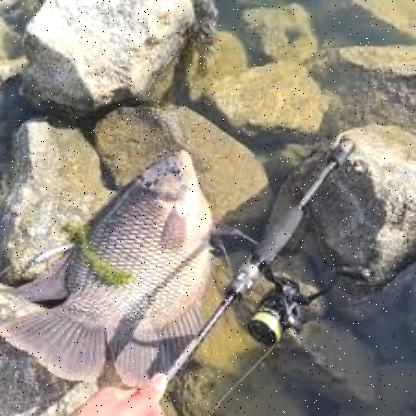gurame: (7, 144, 214, 390)
